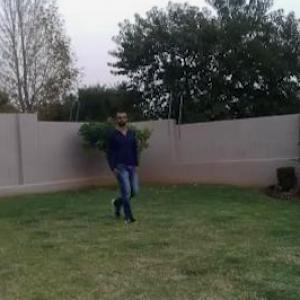follow: (108, 111, 141, 221)
